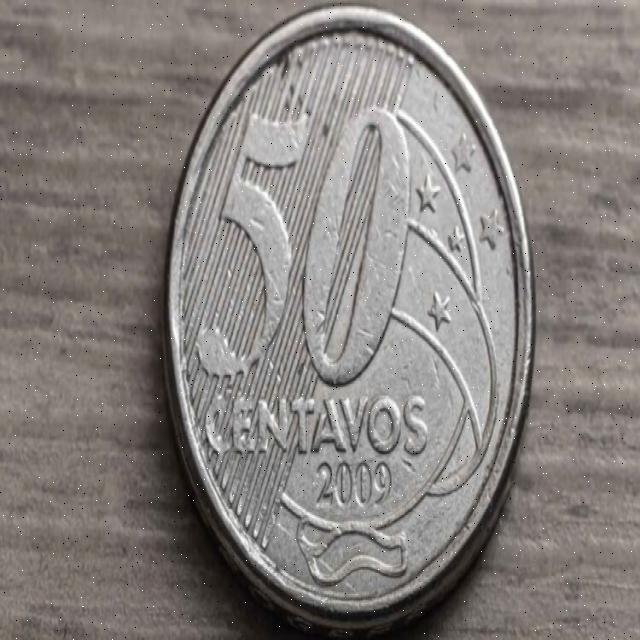50 cent: (166, 6, 538, 640)
